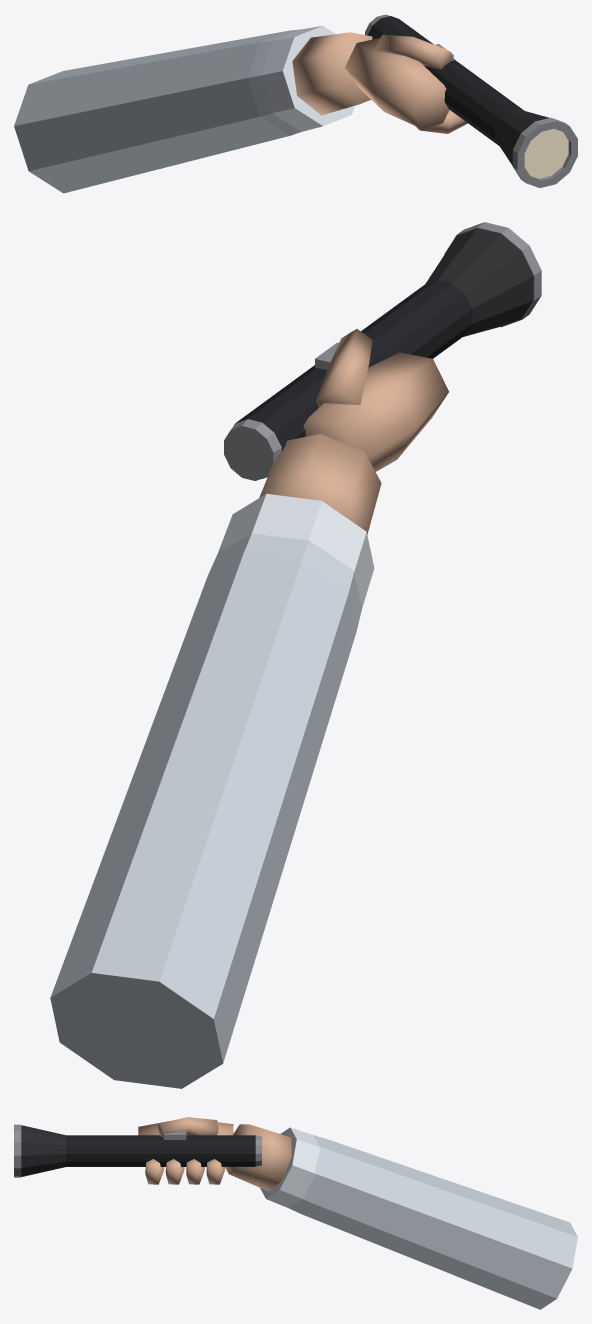
Rendered from FlashlightHand.fbx.
The picture shows the model from 3 angles, top to bottom: view 1: azimuth 30°, elevation 25°; view 2: azimuth 150°, elevation 25°; view 3: azimuth 270°, elevation 25°; orthographic projection. The views are drawn at different scales.
Visible parts, largest first — view 1: Sleeve, Hand, Torch_Body, Cuff, Torch_Bezel, Lens_Glass, Torch_Head; view 2: Sleeve, Hand, Torch_Body, Torch_Head, Cuff, Torch_Cap, Torch_Bezel; view 3: Sleeve, Torch_Body, Hand, Cuff, Torch_Head, Torch_Bezel.
Boxes of the visible parts, x1,y1,x2,y2 form: Sleeve: (14,29,301,193); Hand: (292,32,467,133); Torch_Body: (367,16,524,145); Cuff: (260,26,354,131); Torch_Bezel: (512,117,577,187); Lens_Glass: (524,129,568,178); Torch_Head: (495,109,549,165); Sleeve: (50,533,361,1088); Hand: (259,329,448,534); Torch_Body: (234,280,471,478); Torch_Head: (425,228,533,336); Cuff: (218,493,374,608); Torch_Cap: (224,419,281,480); Torch_Bezel: (444,222,541,327); Sleeve: (289,1135,577,1309); Torch_Body: (66,1135,255,1166); Hand: (138,1117,291,1191); Cuff: (260,1127,320,1208); Torch_Head: (21,1125,65,1176); Torch_Bezel: (14,1124,21,1177).
Bounding box in the file's own units: 19.22 × 26.39 × 60.93.
1 material, 1 textured.
